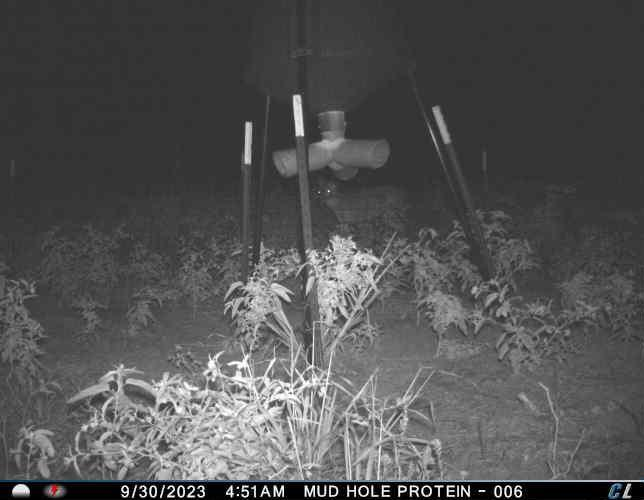Deer: (314, 172, 407, 236)
